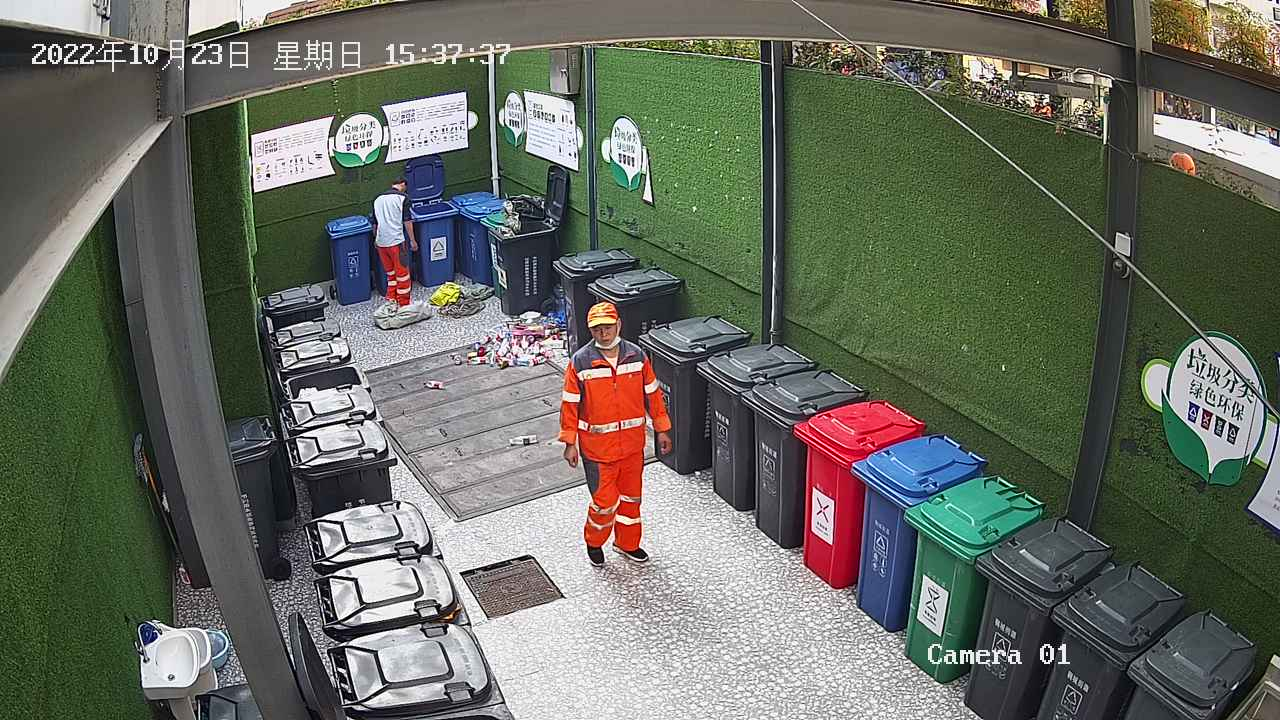garbage-bag: (372, 297, 437, 334)
suliaozhipin: (506, 432, 541, 447), (420, 375, 447, 391)
worker: (555, 297, 677, 573), (366, 171, 420, 312)
